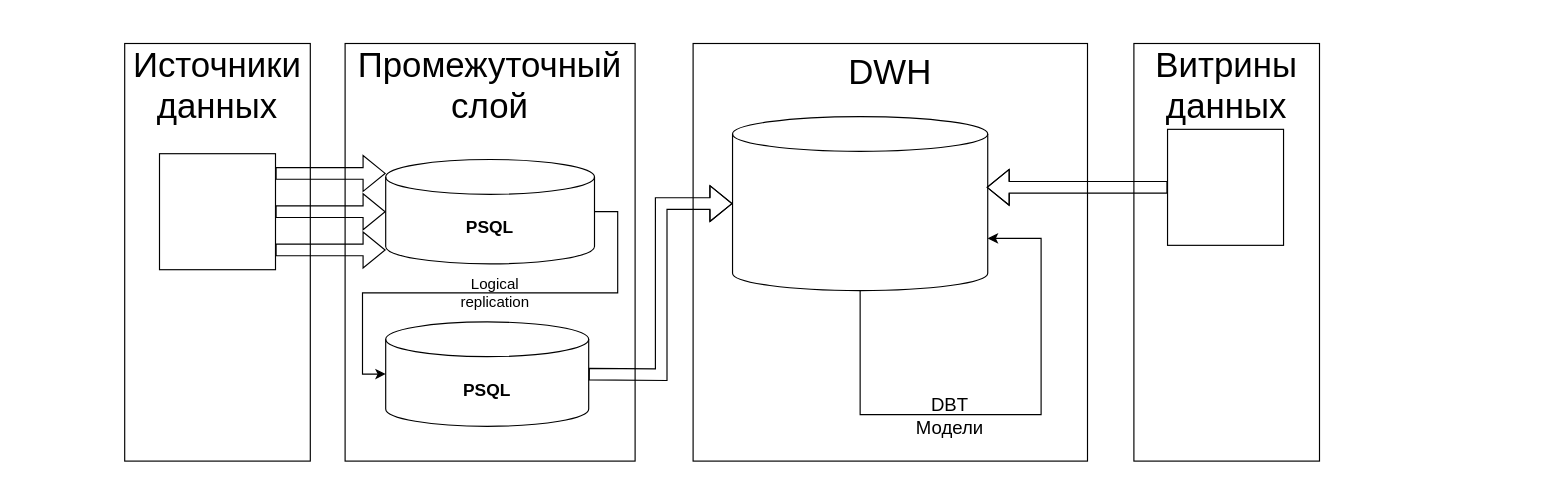
Image size: 1559x503. Some labels were removed from this diagram. Each missing label, with the centre of its shape:
API SpaceX: the point at 217,211
ClickHouse: the point at 859,203
MetaBase: the point at 1225,186
